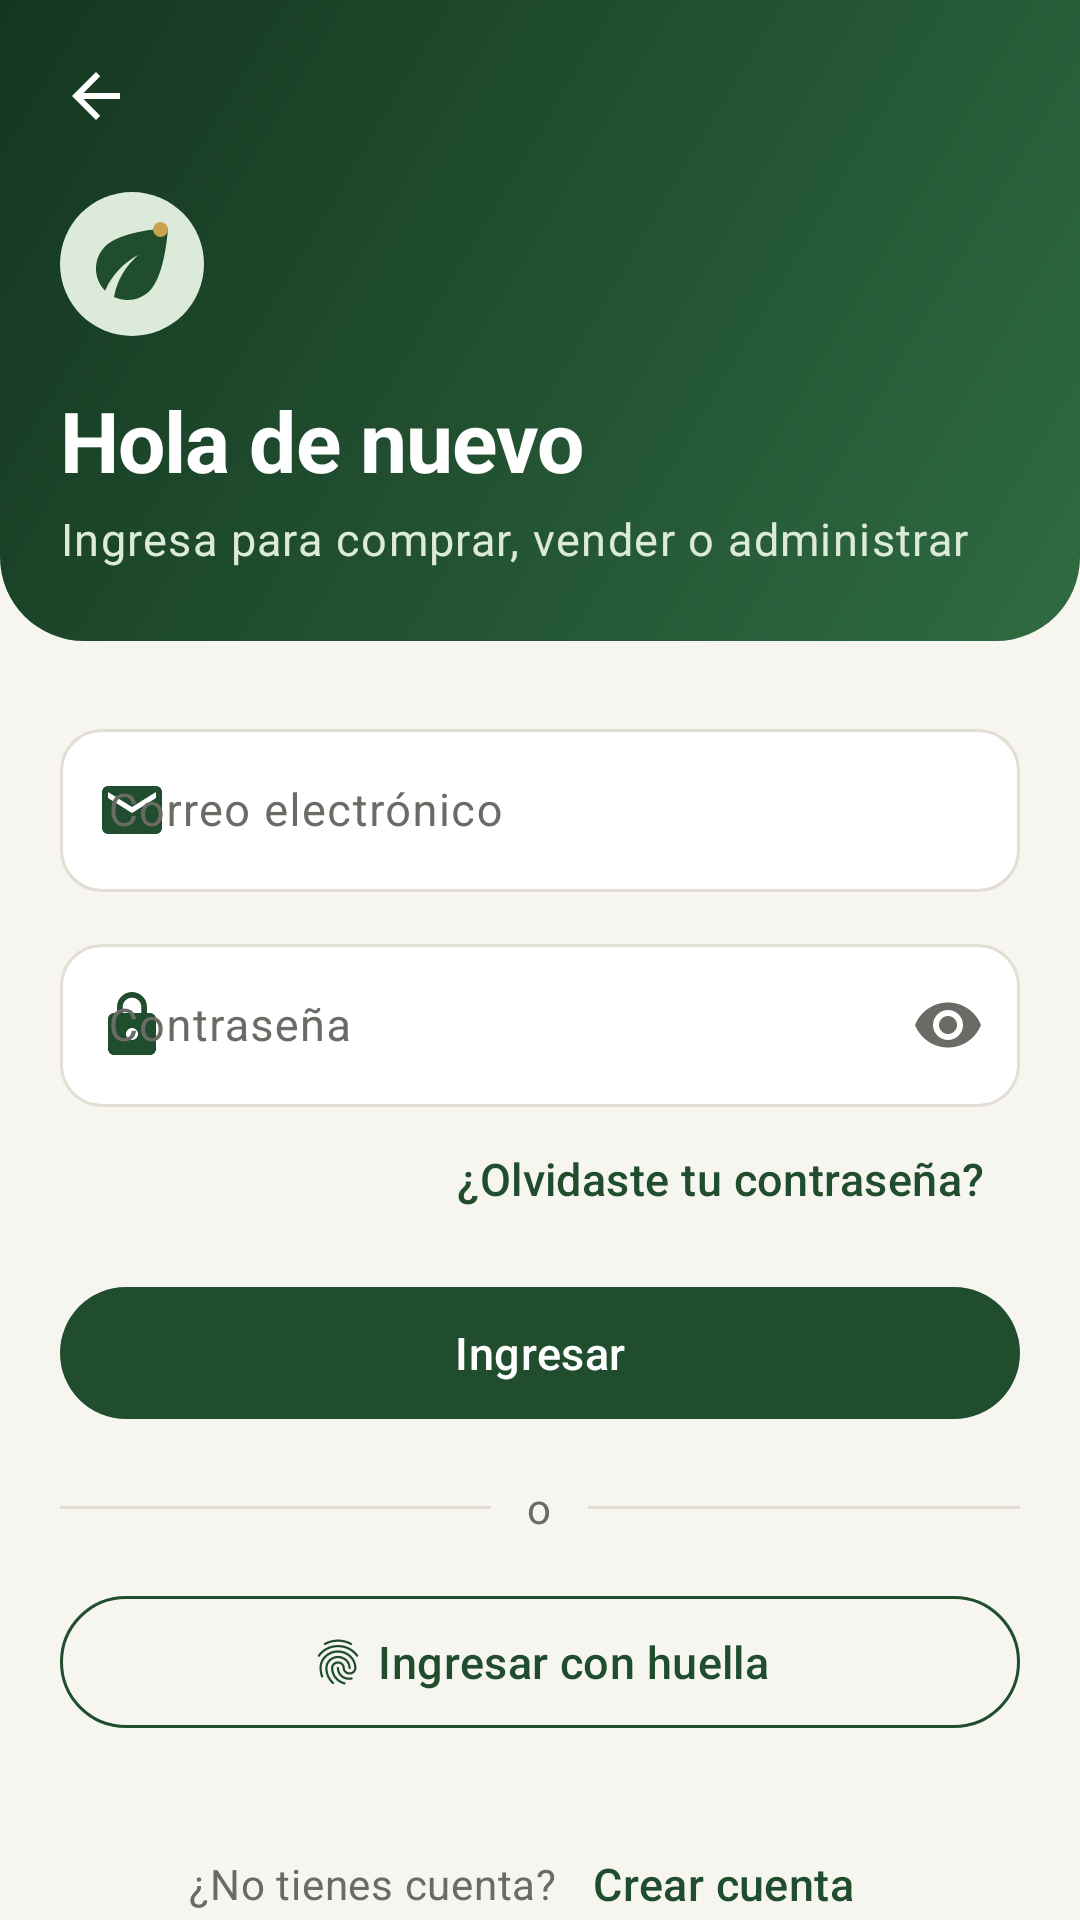

Icon click points for this 1080 × 1920 phone screenshot, format point (x, y):
Volver: point (96, 96)
